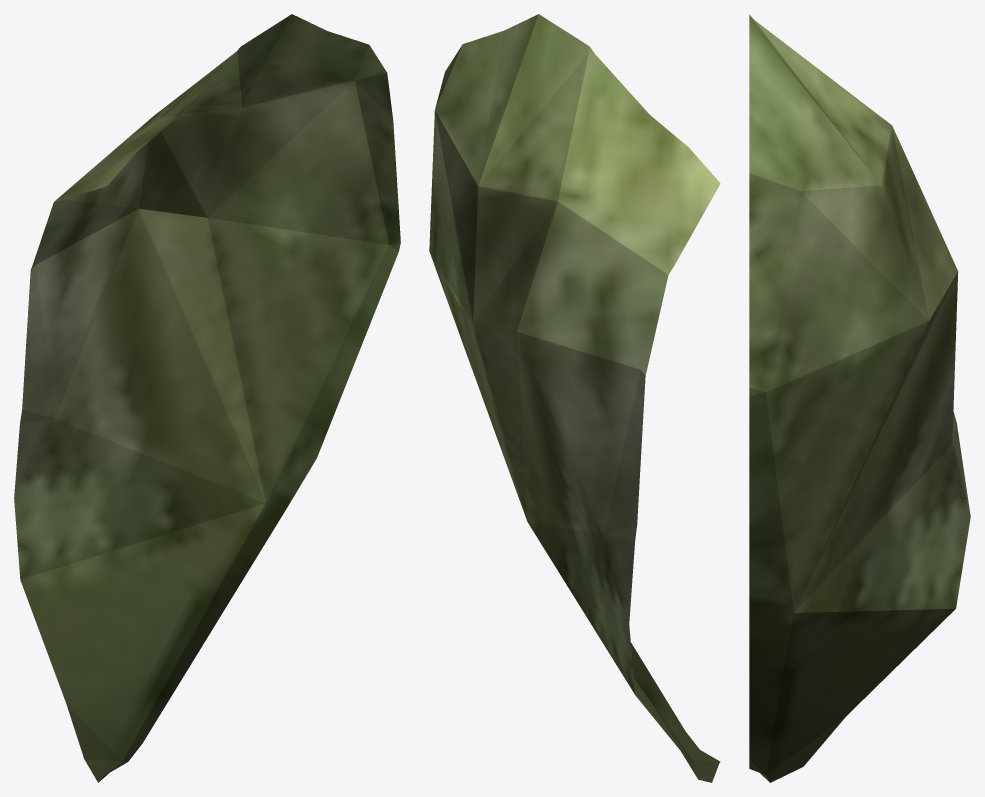
The picture shows the model from 3 angles, left to right: view 1: azimuth 30°, elevation 25°; view 2: azimuth 150°, elevation 25°; view 3: azimuth 270°, elevation 25°; orthographic projection. The views are drawn at different scales.
Bounding box in the file's own units: 0.3187 × 0.7568 × 0.1745.
1 material, 1 textured.
